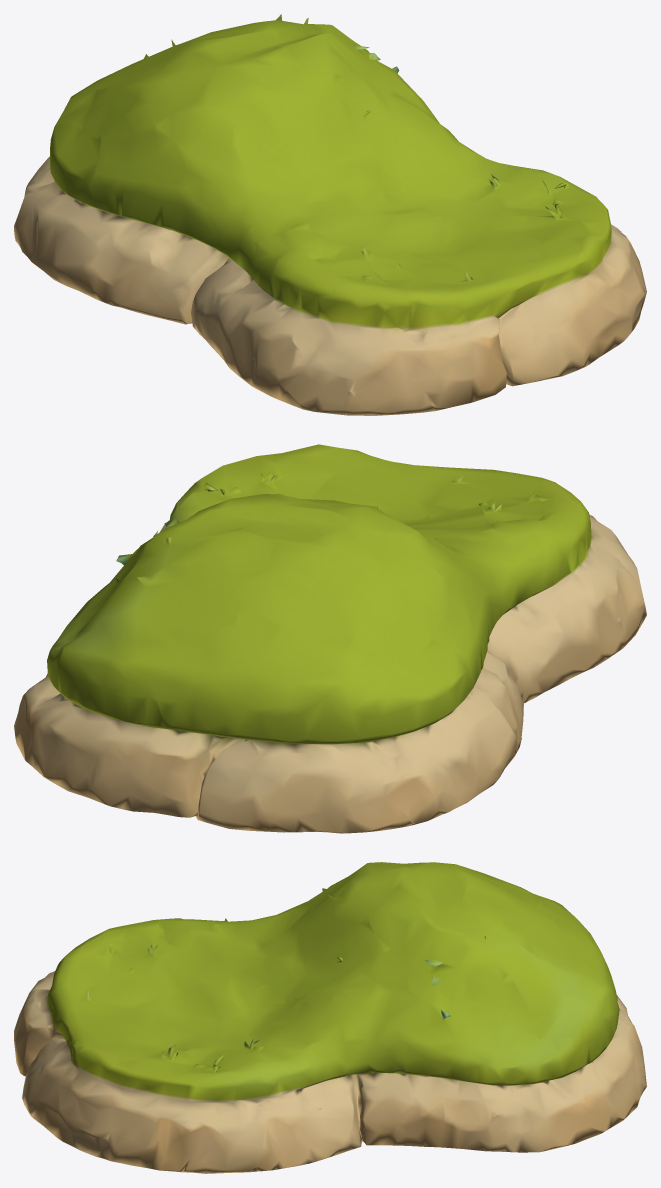
The model's file is textures.glb.
The picture shows the model from 3 angles, top to bottom: view 1: azimuth 30°, elevation 25°; view 2: azimuth 150°, elevation 25°; view 3: azimuth 270°, elevation 25°; orthographic projection. The views are drawn at different scales.
Parts seen in each view (by area): view 1: tripo_node_9f1e6813-3c79-4c25-86ad-3b9a48f474ff; view 2: tripo_node_9f1e6813-3c79-4c25-86ad-3b9a48f474ff; view 3: tripo_node_9f1e6813-3c79-4c25-86ad-3b9a48f474ff.
Boxes of the visible parts, x1,y1,x2,y2 form: tripo_node_9f1e6813-3c79-4c25-86ad-3b9a48f474ff: (14,14,646,415); tripo_node_9f1e6813-3c79-4c25-86ad-3b9a48f474ff: (14,444,646,833); tripo_node_9f1e6813-3c79-4c25-86ad-3b9a48f474ff: (14,862,646,1173).
Bounding box in the file's own units: 0.7431 × 0.3135 × 1.
Materials: 1 (1 with a texture image).
